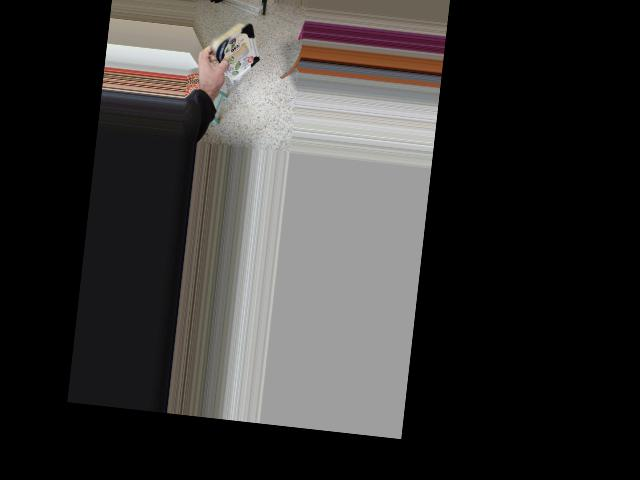cheese: (191, 17, 270, 80)
